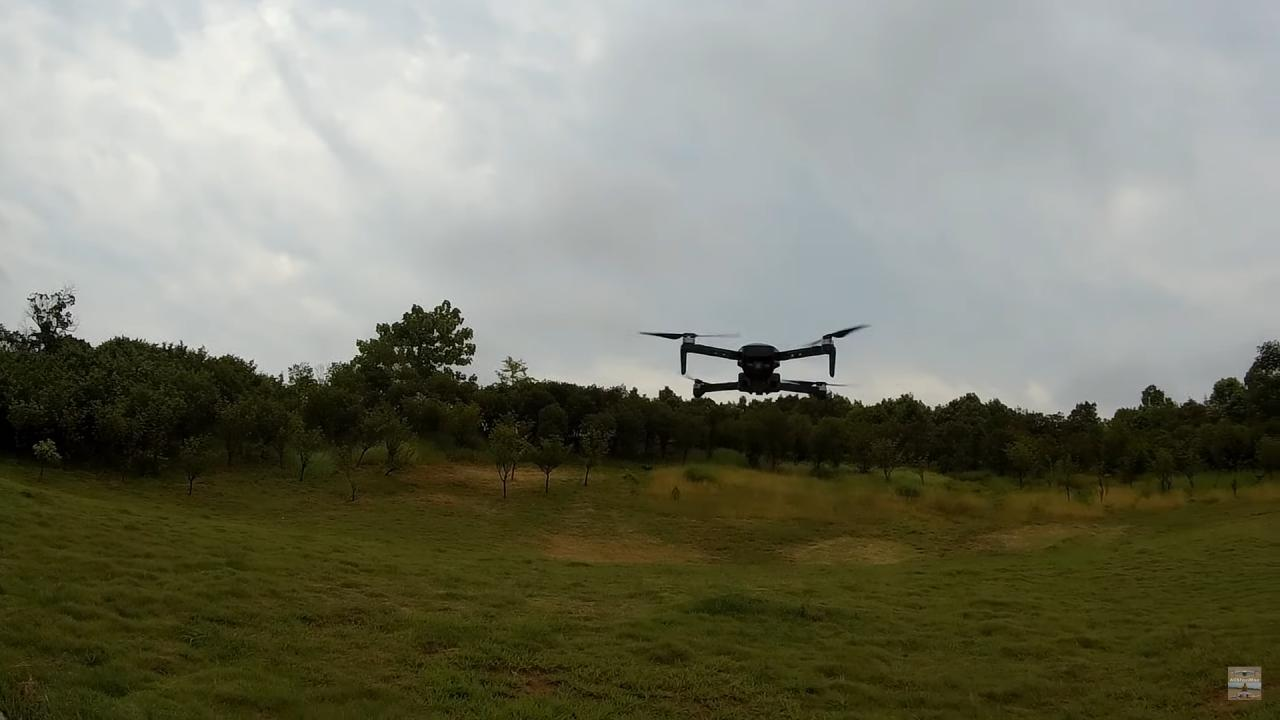Drone: (629, 306, 881, 415)
